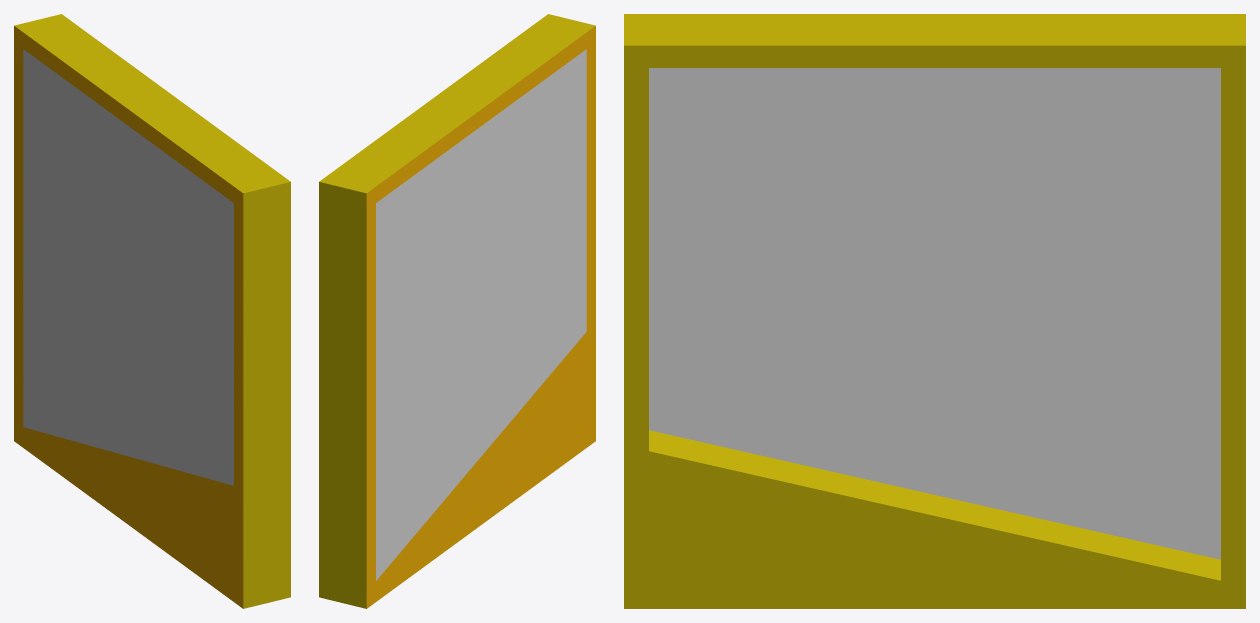
File: 709_window_side_3.dae
The picture shows the model from 3 angles, left to right: view 1: azimuth 30°, elevation 25°; view 2: azimuth 150°, elevation 25°; view 3: azimuth 270°, elevation 25°; orthographic projection. The views are drawn at different scales.
Parts seen in each view (by area): view 1: Cube; view 2: Cube; view 3: Cube.
Part boxes in pixels (<box>): Cube: <box>14,14,290,608</box>; Cube: <box>319,14,595,608</box>; Cube: <box>624,14,1245,608</box>.
Size of the model in its own units: 0.06 by 0.5 by 0.5.
